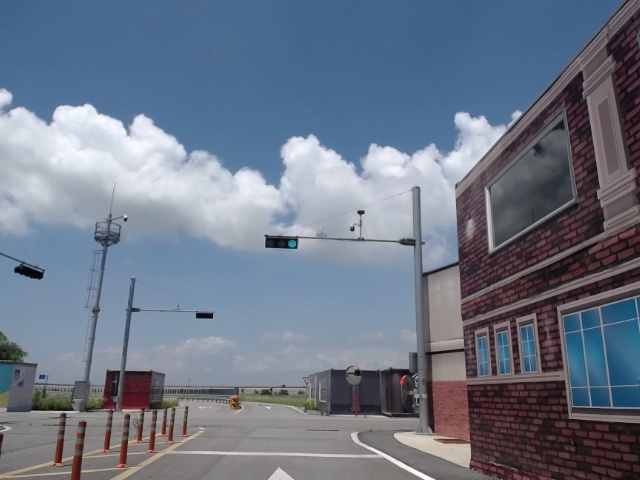green_3: (265, 237, 295, 248)
